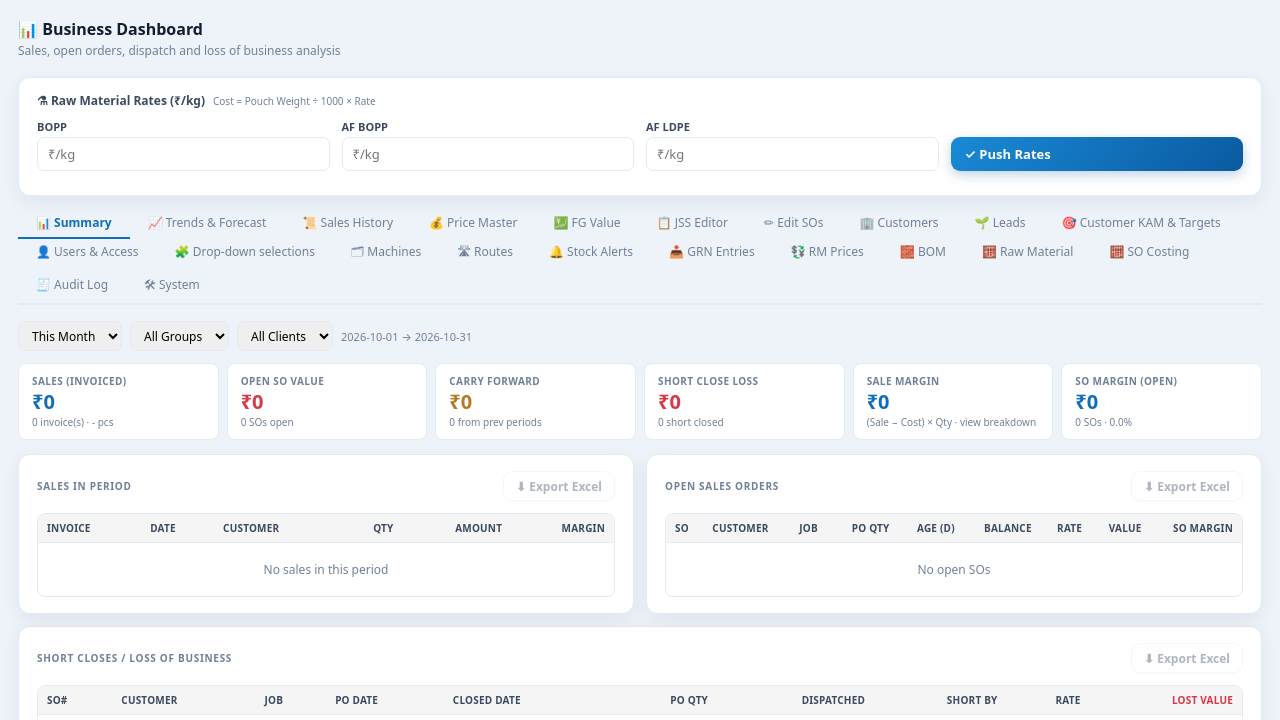
Scenario: Issues 17.10 §1 — Edit SO dispatch location is a drop-down › saves the picked location (and its warehouse) onto the same fields
The width and height of the screenshot is (1280, 720).
Click the text "✏ Edit SOs": (794,222) [764,214,824,231]
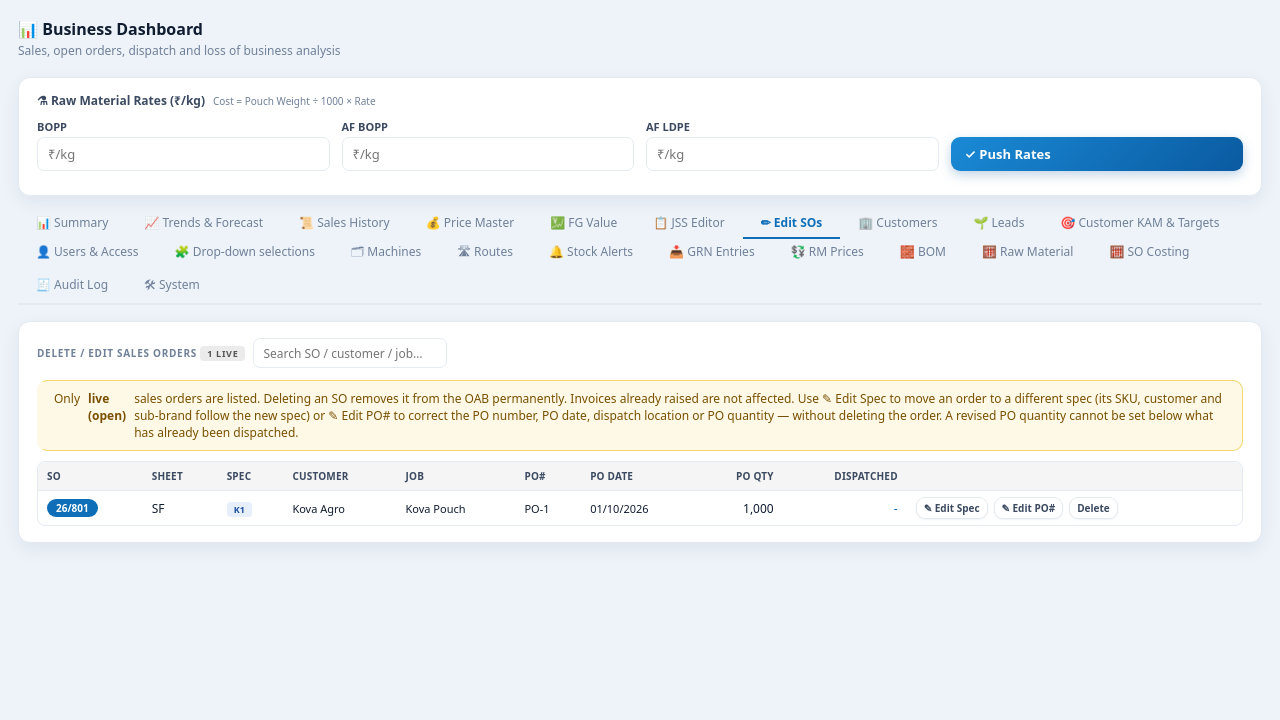
Result: the text "26/801" is shown at [47,499,98,517]
Click the button "✎ Edit PO#": (1028,508) [994,497,1063,519]
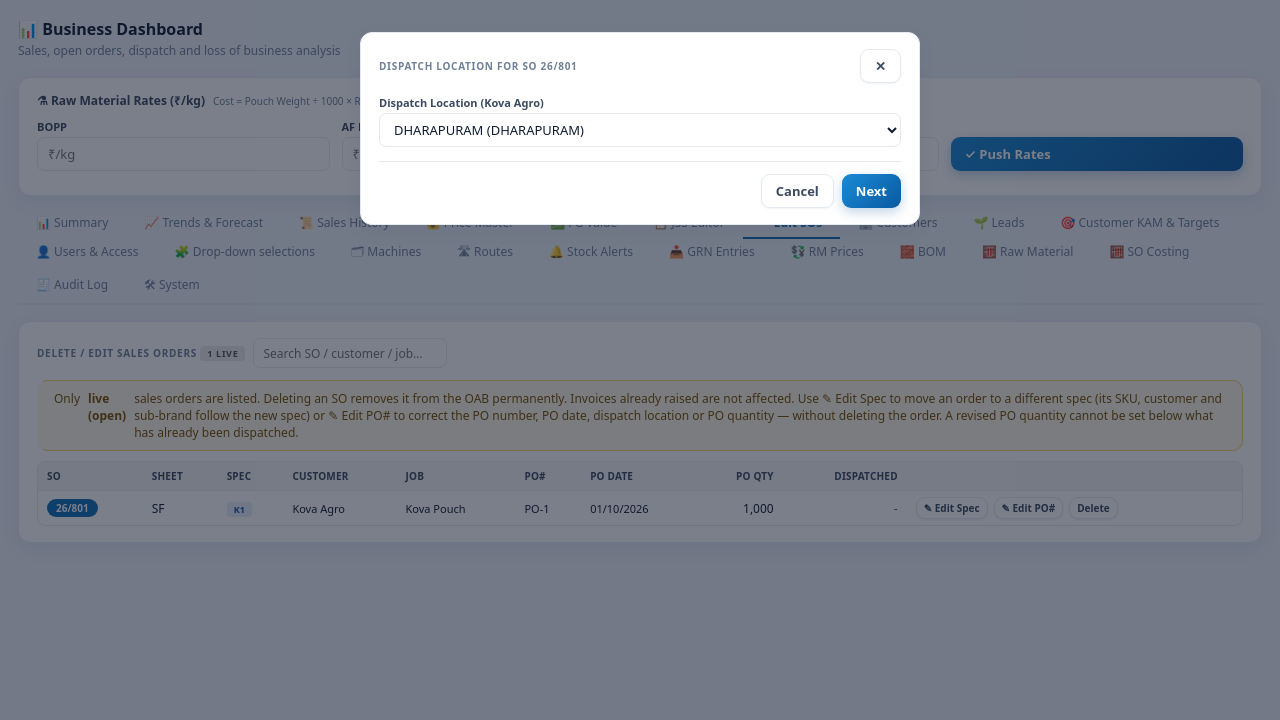
Select "Tirupur" in the dropdown labelled "Dispatch Location": (640,130) [379,113,901,147]
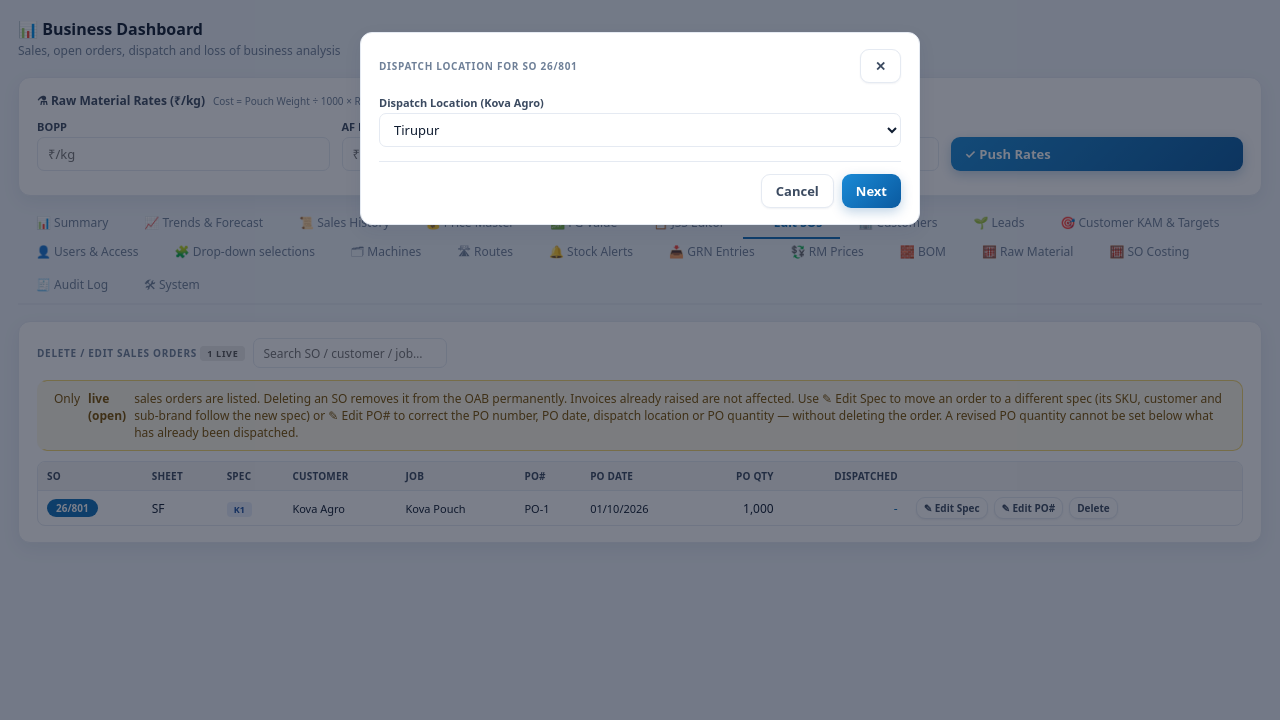
Click the button "Next": (871,191) [842,174,901,208]
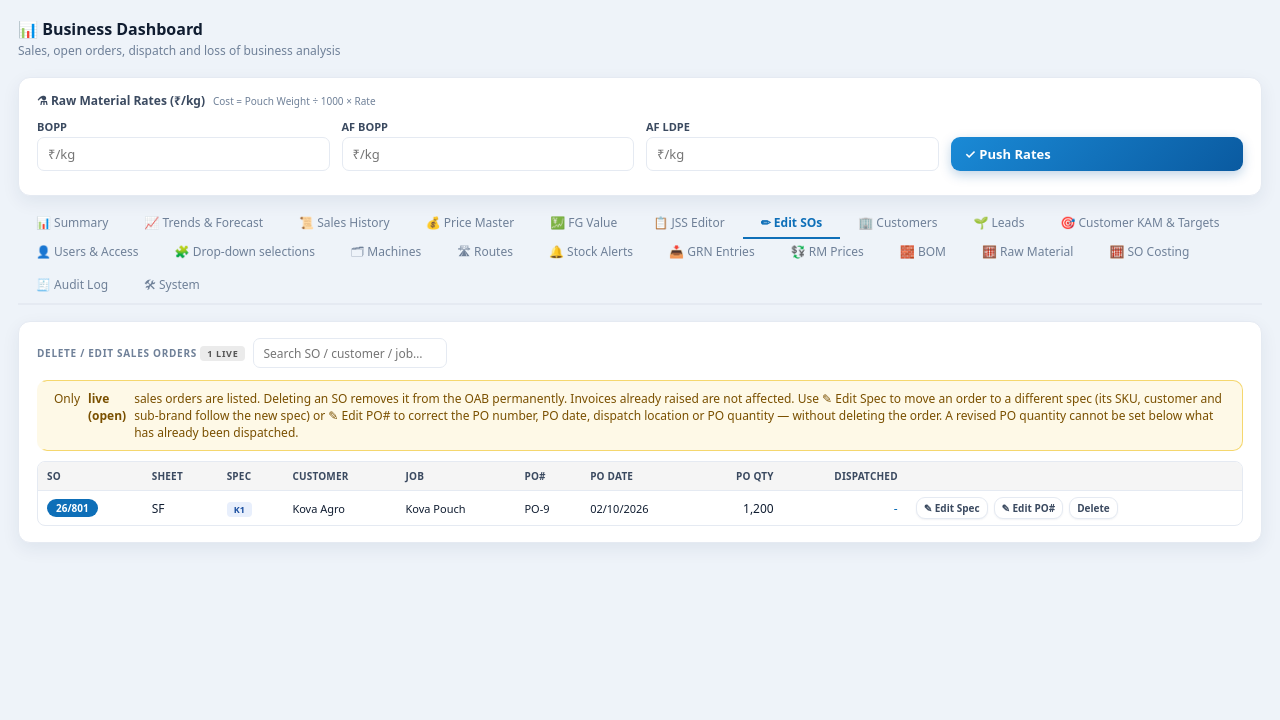
Result: the cell "PO-9" is shown at [516,490,581,525]
